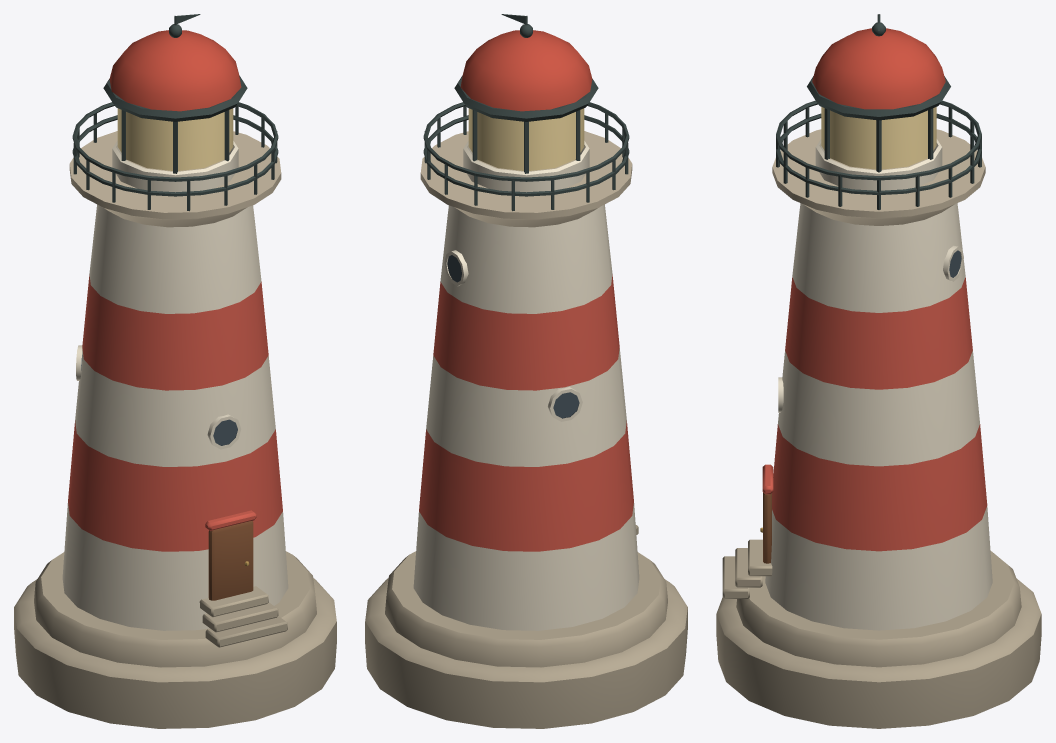
File: lighthouse.glb
3 renders of one model, left to right at view 1: azimuth 30°, elevation 25°; view 2: azimuth 150°, elevation 25°; view 3: azimuth 270°, elevation 25°, orthographic.
Visible parts, largest first — view 1: lighthouse; view 2: lighthouse; view 3: lighthouse.
Boxes of the visible parts, bbox=[...] form: lighthouse: bbox=[14, 14, 336, 728]; lighthouse: bbox=[365, 14, 687, 728]; lighthouse: bbox=[716, 14, 1041, 728].
Size of the model in its own units: 18 by 39.5 by 18.
